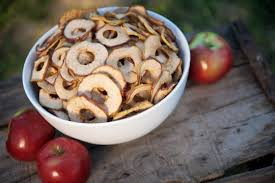apple: (33, 132, 96, 183), (186, 29, 235, 84), (4, 109, 57, 159)
